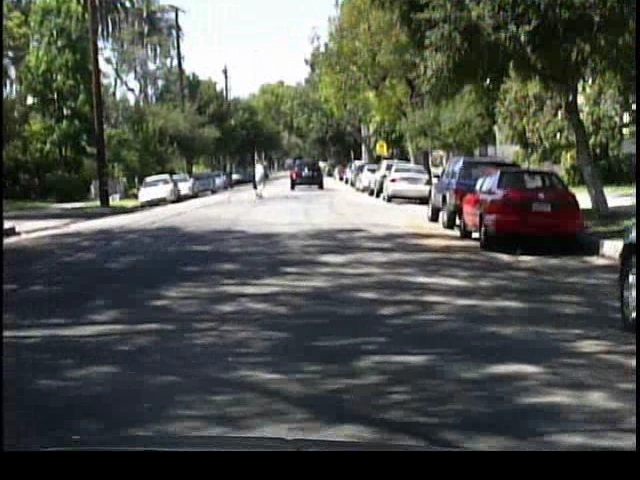person: (249, 169, 274, 216)
